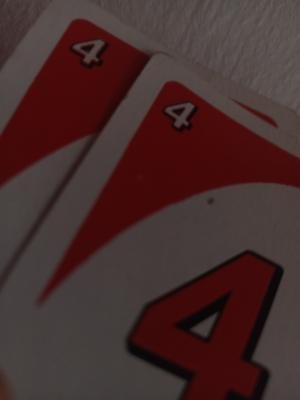num_4: (114, 243, 290, 400), (62, 29, 114, 76), (157, 89, 204, 140)
